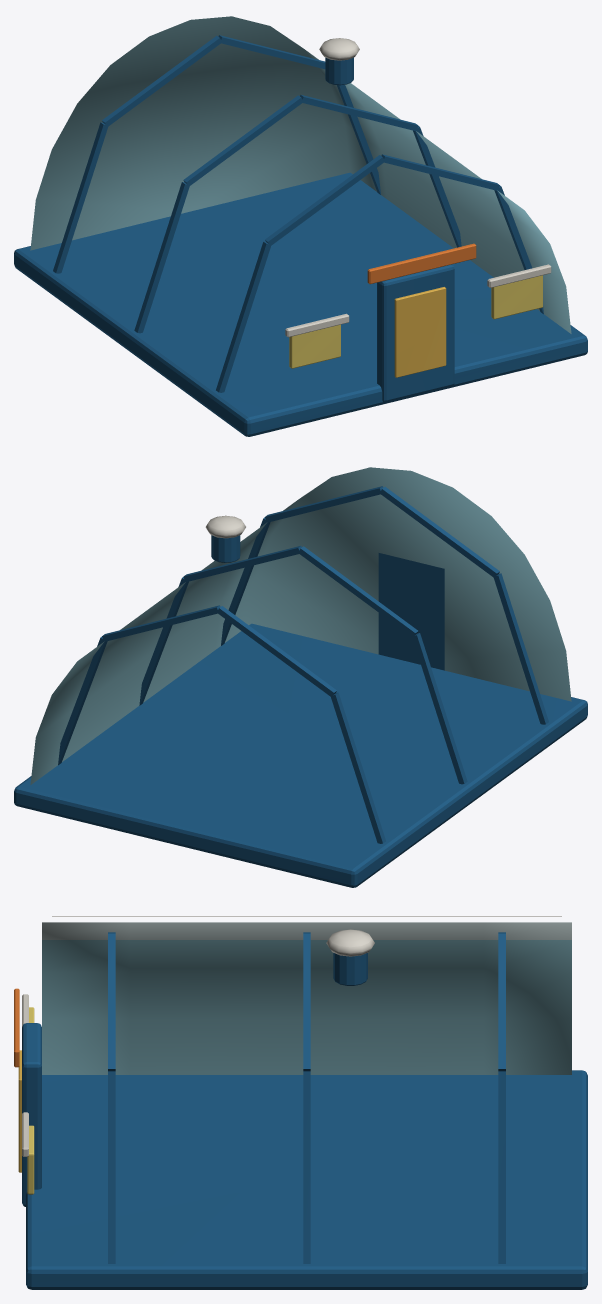
The model's file is glacier_field_lab_v1.glb.
3 renders of one model, top to bottom at view 1: azimuth 30°, elevation 25°; view 2: azimuth 150°, elevation 25°; view 3: azimuth 270°, elevation 25°, orthographic. The views are drawn at different scales.
Parts seen in each view (by area): view 1: glacier_field_lab_v1; view 2: glacier_field_lab_v1; view 3: glacier_field_lab_v1.
Boxes of the visible parts, <box> form: glacier_field_lab_v1: <box>14,16,587,436</box>; glacier_field_lab_v1: <box>14,467,587,887</box>; glacier_field_lab_v1: <box>14,916,587,1289</box>.
Size of the model in its own units: 8.15 by 5.52 by 9.85.
